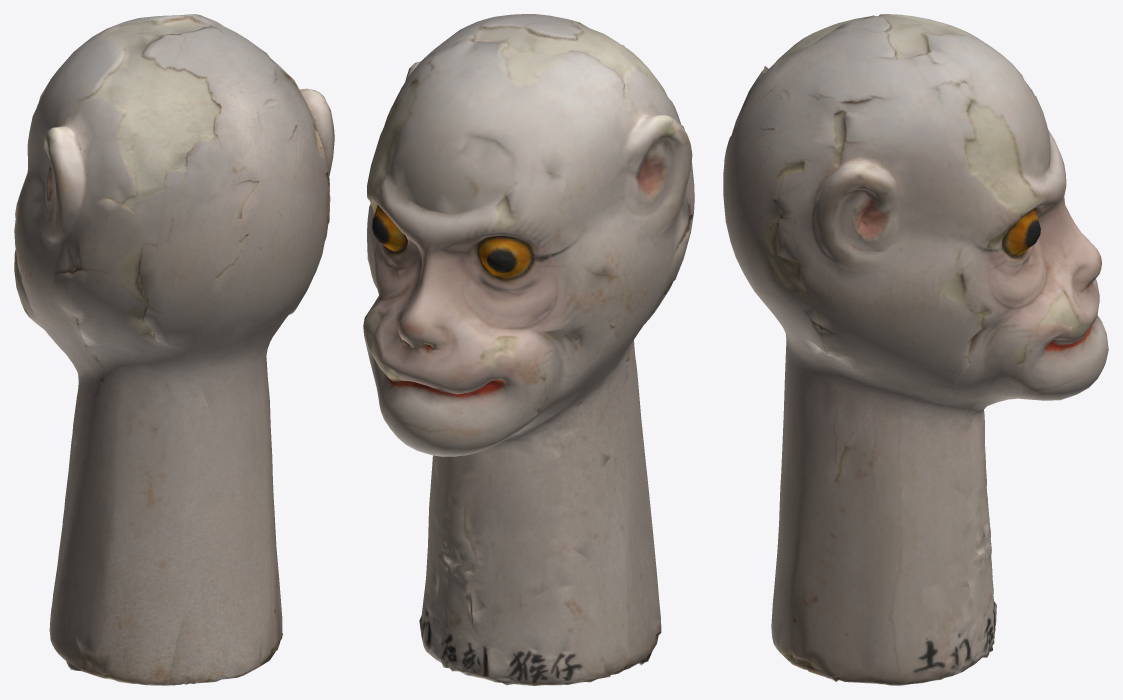
Rendered from MTY000244.glb.
3 views of the same model, side by side, from view 1: azimuth 30°, elevation 25°; view 2: azimuth 150°, elevation 25°; view 3: azimuth 270°, elevation 25° (orthographic).
Parts seen in each view (by area): view 1: MTY000244.001; view 2: MTY000244.001; view 3: MTY000244.001.
Boxes of the visible parts, left/top/right/bottom form: MTY000244.001: left=14, top=14, right=334, bottom=685; MTY000244.001: left=363, top=14, right=694, bottom=685; MTY000244.001: left=723, top=14, right=1108, bottom=685.
Bounding box in the file's own units: 21.55 × 45.9 × 26.08.
1 material, 1 textured.
